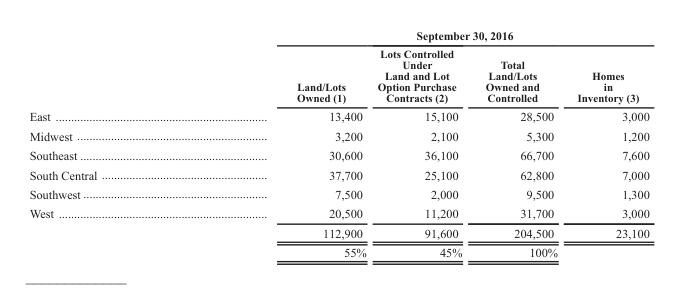table: (28, 28, 648, 258)
table column: (196, 28, 371, 258), (28, 28, 196, 258), (371, 28, 473, 258), (473, 28, 566, 258), (566, 28, 648, 258)
table column header: (28, 28, 648, 106)
table row: (28, 44, 648, 106), (28, 125, 648, 145), (28, 164, 648, 184), (28, 222, 648, 242), (28, 106, 648, 125), (28, 145, 648, 164), (28, 184, 648, 203), (28, 203, 648, 222), (28, 28, 648, 44), (28, 242, 648, 258)
table spanning cell: (196, 28, 648, 44)
